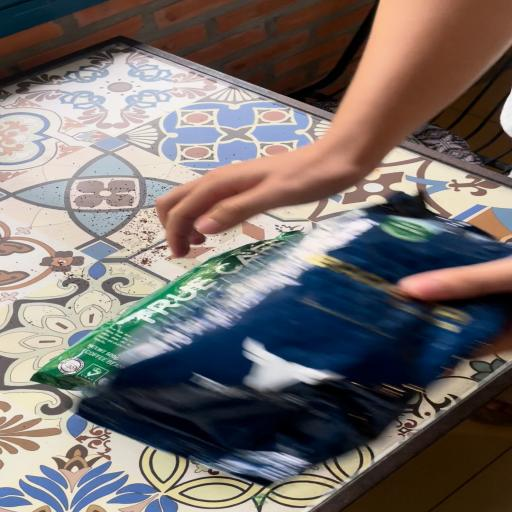cafe_hat: (78, 195, 512, 484)
cafe_xay: (31, 231, 299, 390)
